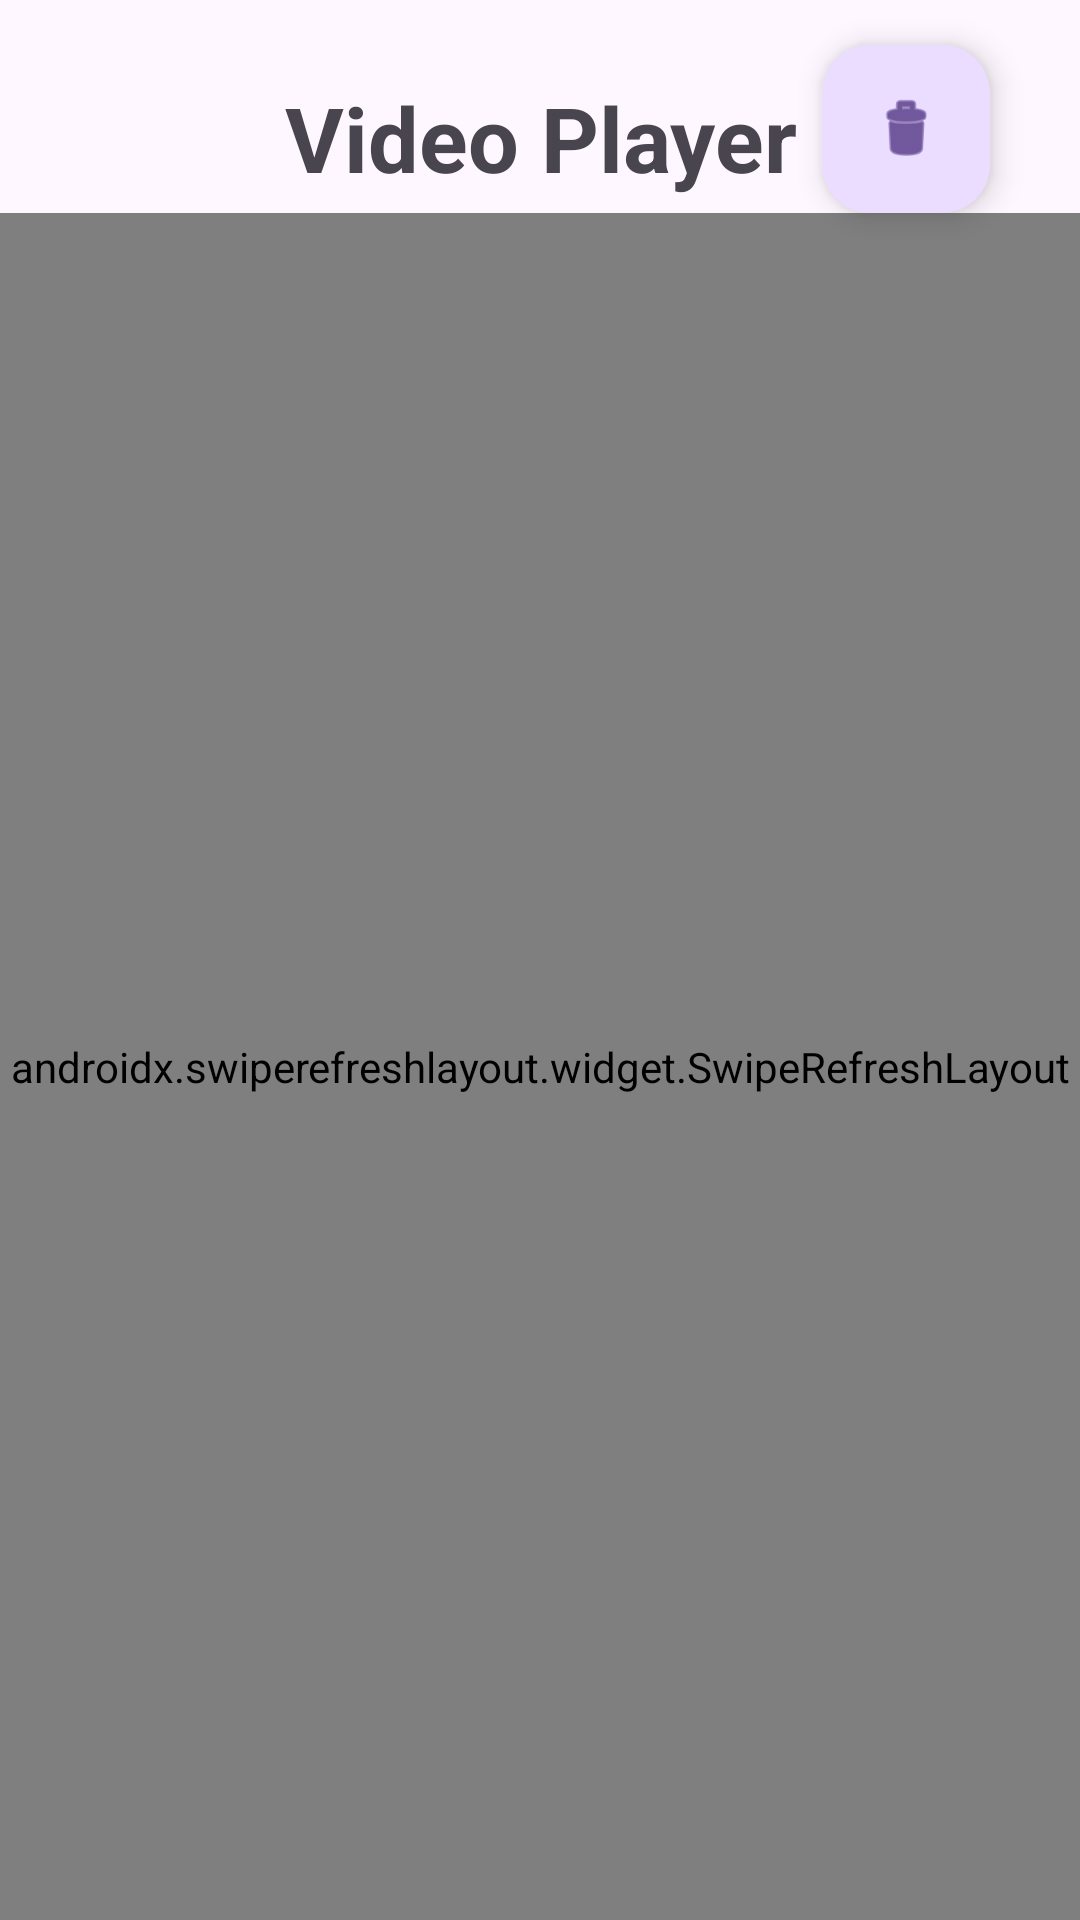

Named icons in this screenshot (1080px×1920px) and their centers, point (x, y):
Clear cache button: point (906, 127)
